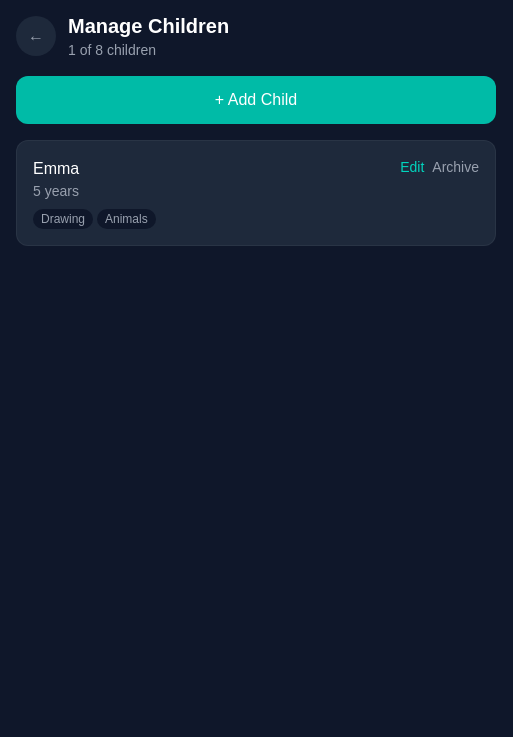
Test: Profile Section › Children Management Page › validates birth date must be 0-18 years
// Open add form
Click the button "+ Add Child".
click(256, 100)  # box left=16, top=76, right=496, bottom=124
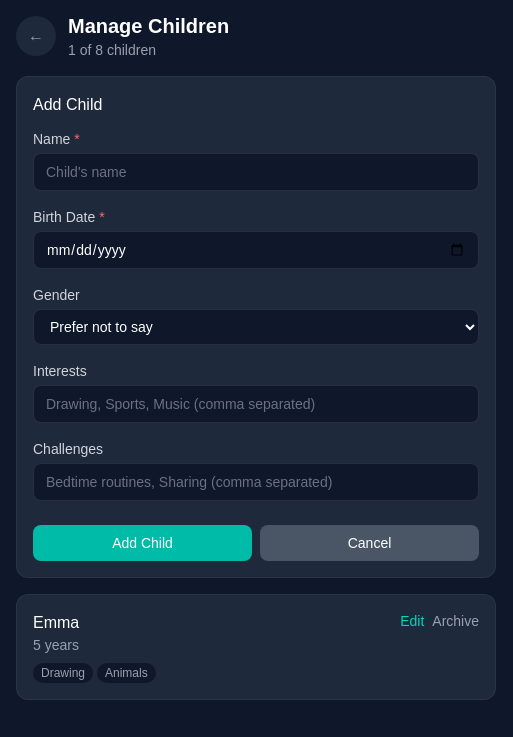
// Enter name
Type "Test Child" into the field with placeholder "Child's name".
click(256, 172); type("Test Child")  # box left=33, top=153, right=479, bottom=191
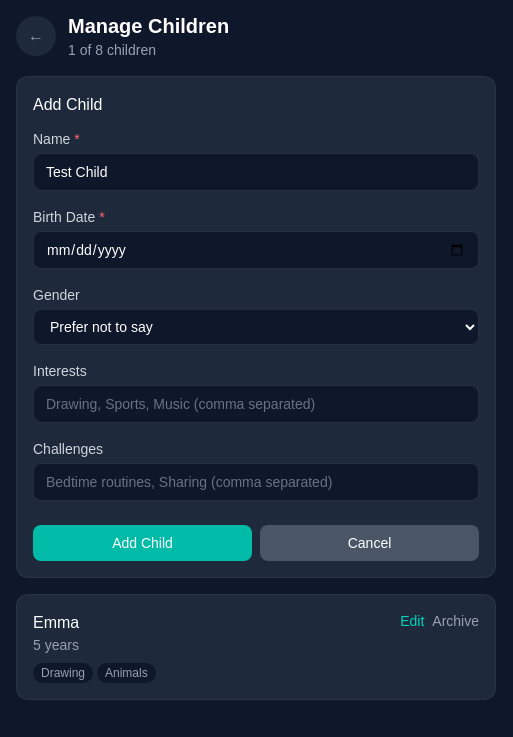
// Leave birth date empty and try to submit (required field validation)
Click the button "Add Child".
click(142, 543)  # box left=33, top=525, right=252, bottom=561
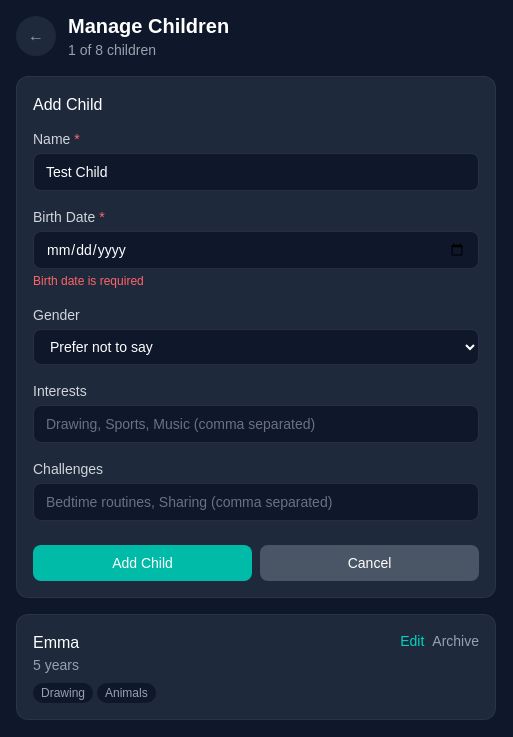
Now the text "Birth date is required" is shown, box left=33, top=274, right=144, bottom=288
